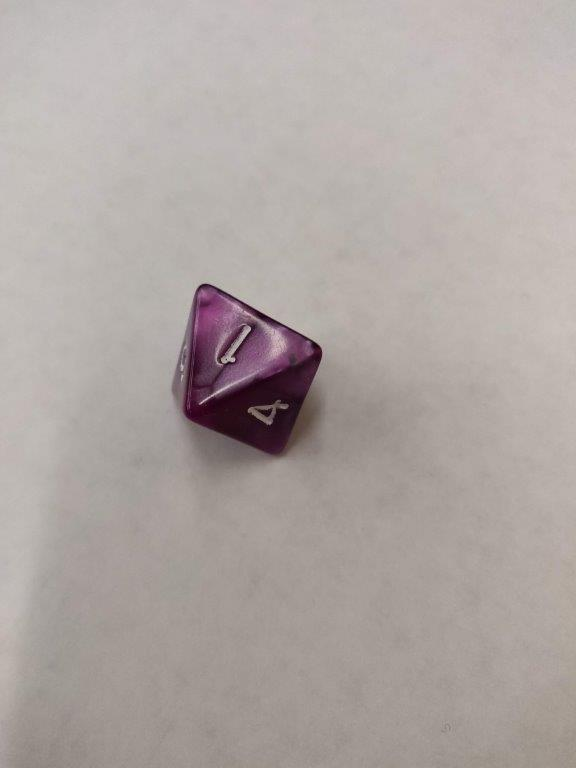d8-1: (170, 282, 324, 457)
